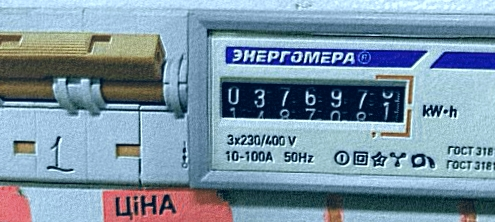0: (225, 84, 241, 105)
1: (381, 100, 392, 121)
3: (252, 87, 266, 110)
6: (304, 85, 317, 106)
7: (278, 84, 291, 108), (355, 87, 368, 110)
9: (329, 87, 342, 109)
screen: (213, 70, 417, 141)
